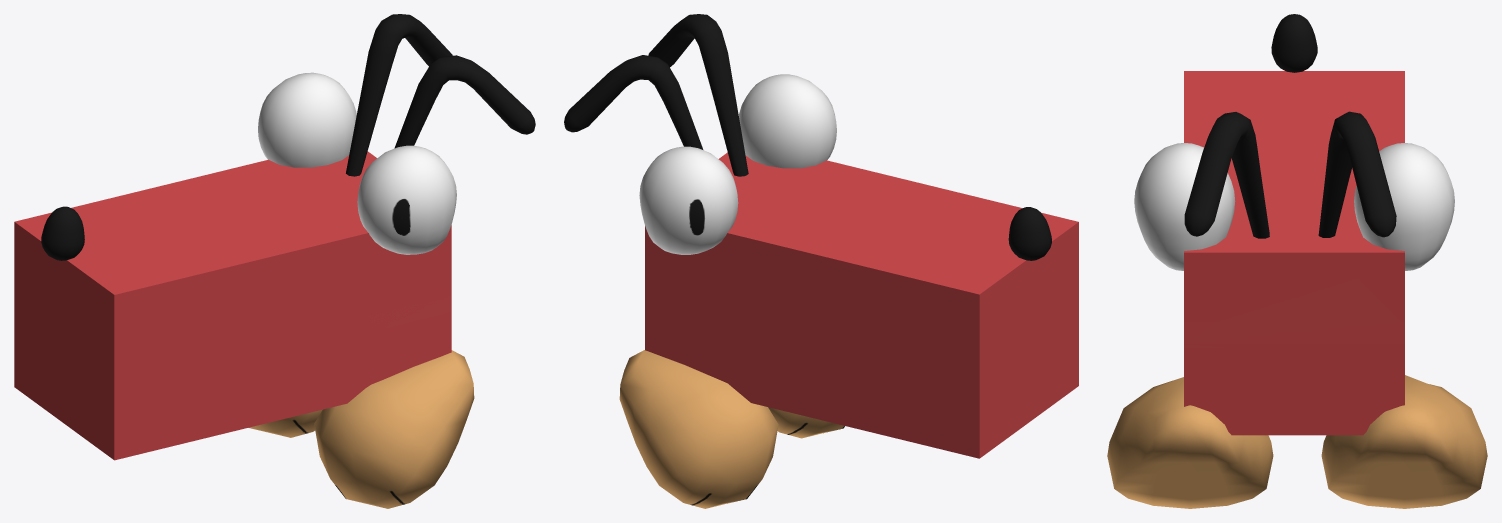
The model's file is BOXDOG_02.fbx.
3 renders of one model, left to right at view 1: azimuth 30°, elevation 25°; view 2: azimuth 150°, elevation 25°; view 3: azimuth 270°, elevation 25°, orthographic. The views are drawn at different scales.
Visible parts, largest first — view 1: uwaago1, sitaago, asi1, tunagi, asi2; view 2: uwaago1, sitaago, asi2, asi1, tunagi; view 3: uwaago1, tunagi, asi2, asi1, sitaago.
Boxes of the visible parts, left/top/right/bottom form: uwaago1: left=14, top=14, right=535, bottom=399; sitaago: left=14, top=275, right=451, bottom=460; asi1: left=314, top=350, right=474, bottom=508; tunagi: left=369, top=296, right=451, bottom=371; asi2: left=249, top=409, right=322, bottom=437; uwaago1: left=564, top=14, right=1078, bottom=398; sitaago: left=645, top=275, right=1078, bottom=458; asi2: left=619, top=350, right=778, bottom=508; asi1: left=768, top=407, right=844, bottom=438; tunagi: left=677, top=304, right=726, bottom=378; uwaago1: left=1134, top=14, right=1454, bottom=321; tunagi: left=1184, top=250, right=1404, bottom=423; asi2: left=1321, top=375, right=1487, bottom=508; asi1: left=1107, top=377, right=1273, bottom=508; sitaago: left=1184, top=322, right=1404, bottom=435.
Size of the model in its own units: 56.65 by 49.33 by 37.76.
